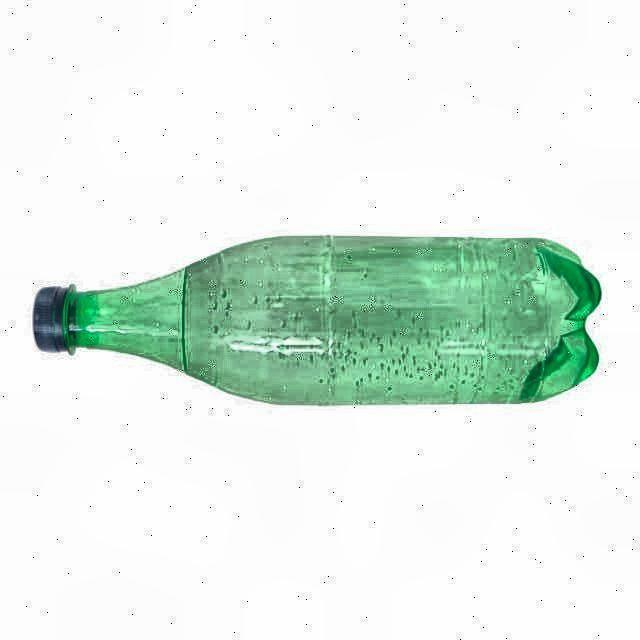plastic: (32, 236, 600, 404)
